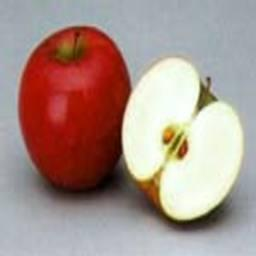apple: (122, 56, 245, 225), (15, 26, 133, 195)
